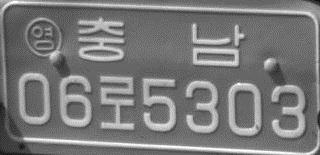0: (16, 70, 52, 125), (227, 81, 262, 137)
3: (271, 84, 307, 139), (184, 79, 219, 134)
5: (141, 76, 178, 133)
6: (57, 73, 93, 127)
로: (97, 74, 136, 131)
영: (24, 16, 63, 58)
충남_D: (76, 15, 242, 69)
